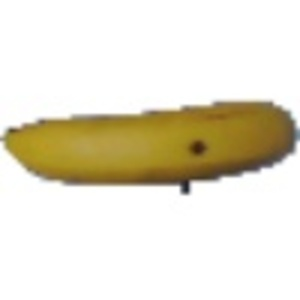banana: (2, 92, 298, 188)
